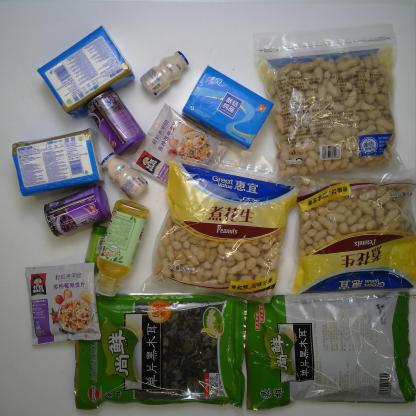Canned Food: (84, 89, 148, 157), (43, 183, 113, 237)
Dried Food: (139, 146, 303, 306), (252, 19, 409, 182), (74, 291, 249, 411), (244, 289, 416, 411), (285, 164, 416, 297)
Drink: (95, 198, 151, 297)
Instant Drink: (129, 103, 230, 186), (24, 262, 102, 346)
Milk: (139, 50, 190, 98), (100, 152, 149, 200)
Stationery: (84, 223, 108, 274)
Tissue: (36, 24, 135, 119), (181, 63, 276, 151), (11, 127, 107, 196)
